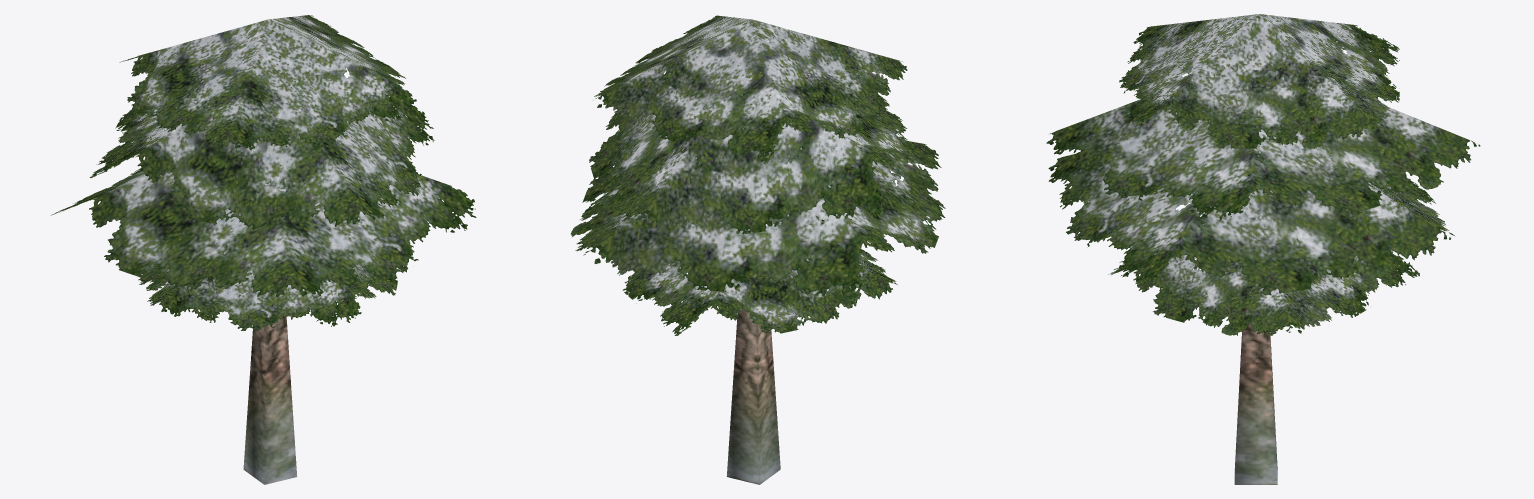
Rendered from tree5.dae.
3 renders of one model, left to right at view 1: azimuth 30°, elevation 25°; view 2: azimuth 150°, elevation 25°; view 3: azimuth 270°, elevation 25°, orthographic. The views are drawn at different scales.
Visible parts, largest first — view 1: Untitled; view 2: Untitled; view 3: Untitled.
Boxes of the visible parts, x1,y1,x2,y2 form: Untitled: [51, 15, 476, 484]; Untitled: [571, 15, 945, 484]; Untitled: [1046, 14, 1480, 484].
Bounding box in the file's own units: 4.06 × 4.42 × 4.33.
1 material, 1 textured.
